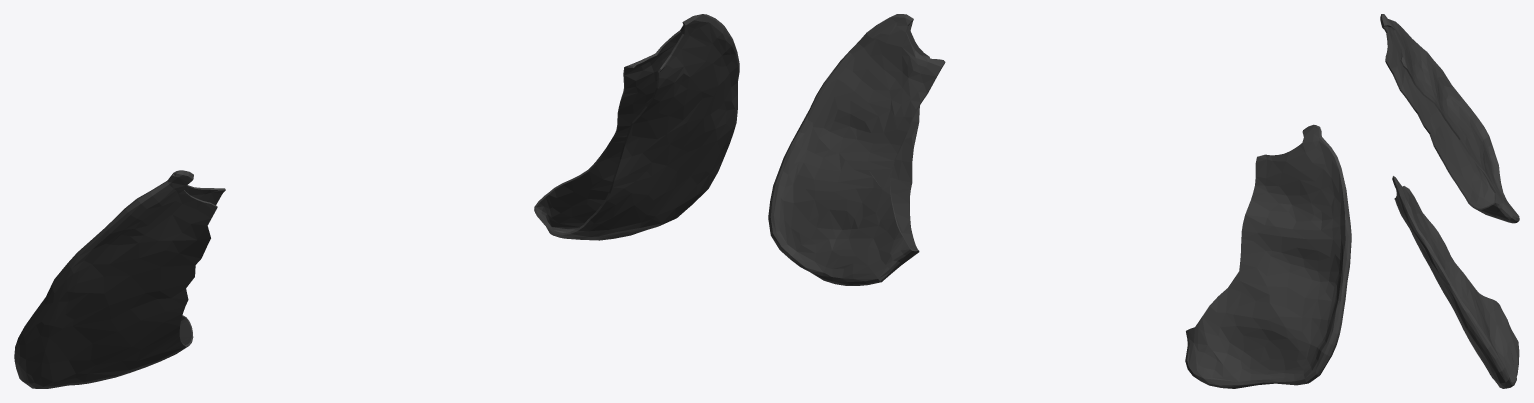
File: c1_wings_of_atlas.glb
3 views of the same model, side by side, from view 1: azimuth 30°, elevation 25°; view 2: azimuth 150°, elevation 25°; view 3: azimuth 270°, elevation 25° (orthographic). The views are drawn at different scales.
Visible parts, largest first — view 1: c1_wings_of_atlas; view 2: c1_wings_of_atlas; view 3: c1_wings_of_atlas.
Boxes of the visible parts, <box> form: c1_wings_of_atlas: <box>14,14,739,388</box>; c1_wings_of_atlas: <box>768,14,1351,388</box>; c1_wings_of_atlas: <box>1380,14,1519,388</box>.
Size of the model in its own units: 90.67 by 36 by 21.79.
Materials: 1 (1 with a texture image).
